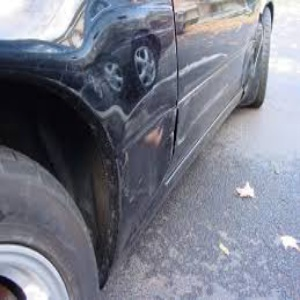door_scratch: (121, 44, 235, 96)
